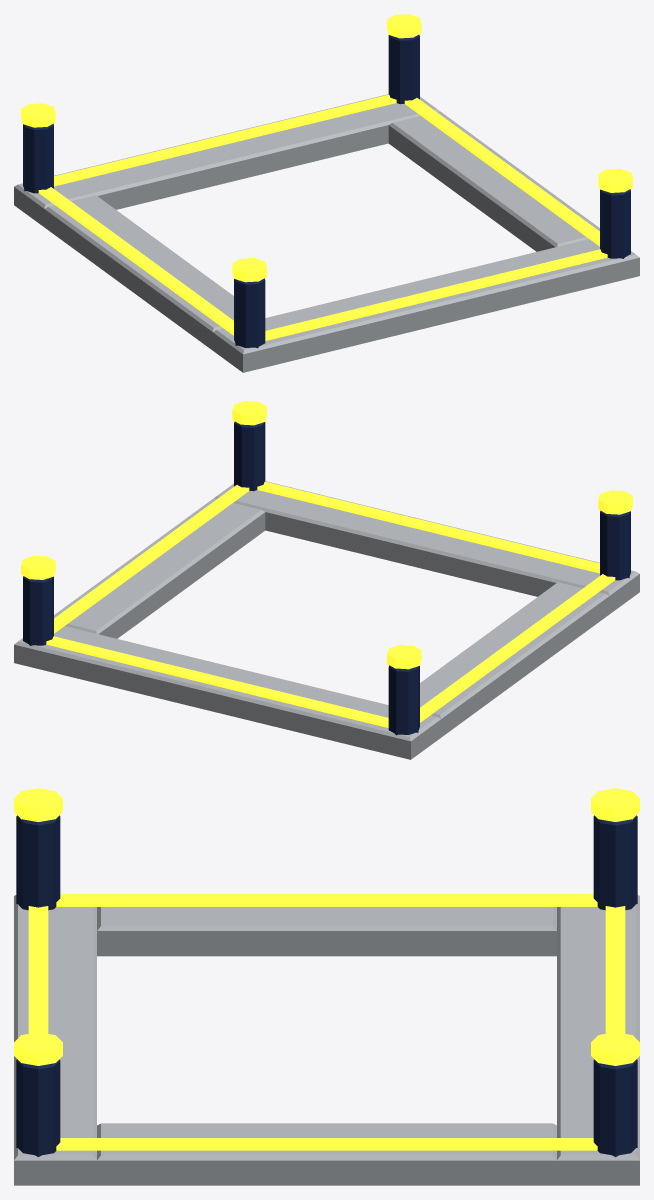
Rendered from PadRing_padY.glb.
3 views of the same model, one above another, from view 1: azimuth 30°, elevation 25°; view 2: azimuth 150°, elevation 25°; view 3: azimuth 270°, elevation 25° (orthographic). The views are drawn at different scales.
Visible parts, largest first — view 1: PadRing_padY, PadRing_padY_Glow_padY; view 2: PadRing_padY, PadRing_padY_Glow_padY; view 3: PadRing_padY, PadRing_padY_Glow_padY.
Part boxes in pixels (x1,y1,x2,y2): PadRing_padY: [14, 34, 639, 372]; PadRing_padY_Glow_padY: [21, 14, 632, 340]; PadRing_padY: [14, 421, 639, 759]; PadRing_padY_Glow_padY: [21, 401, 632, 727]; PadRing_padY: [14, 815, 639, 1185]; PadRing_padY_Glow_padY: [14, 788, 639, 1150].
Bounding box in the file's own units: 12.8 × 3 × 12.8.
2 materials, 1 textured.
